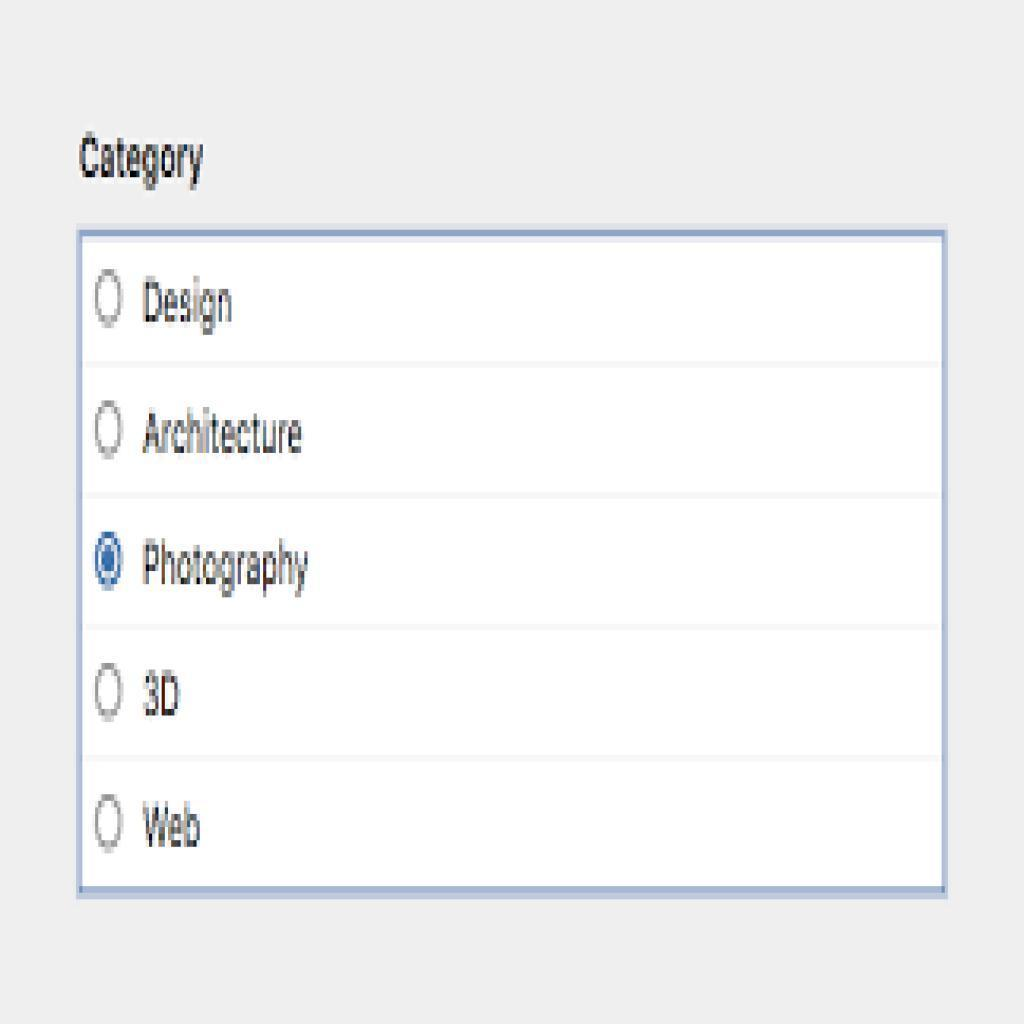radio: (92, 394, 130, 465), (91, 791, 127, 859), (93, 266, 127, 331), (93, 662, 125, 726), (95, 531, 126, 593)
